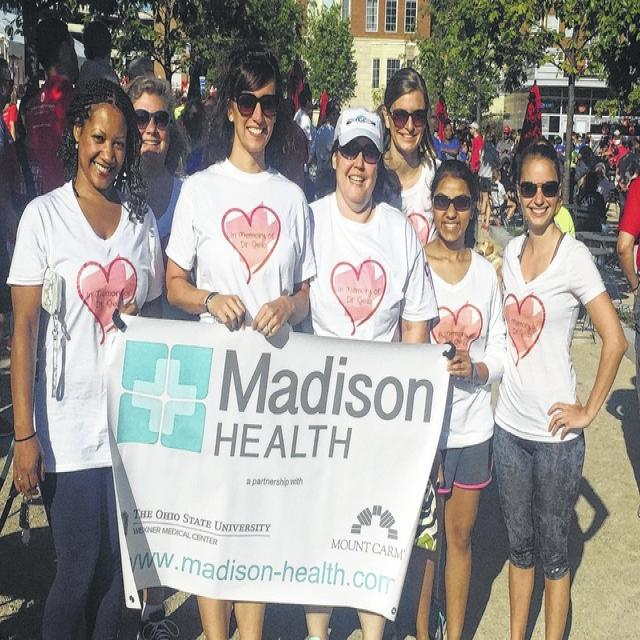body: (4, 69, 170, 639), (164, 45, 316, 640), (298, 104, 441, 640), (488, 134, 632, 638), (409, 156, 507, 640), (518, 369, 639, 639), (120, 73, 202, 323), (547, 99, 639, 298), (14, 15, 83, 240), (379, 64, 445, 248), (282, 73, 346, 199), (466, 108, 519, 227), (2, 60, 40, 221), (72, 19, 122, 97), (424, 108, 466, 176), (489, 167, 518, 229), (467, 120, 485, 176)
